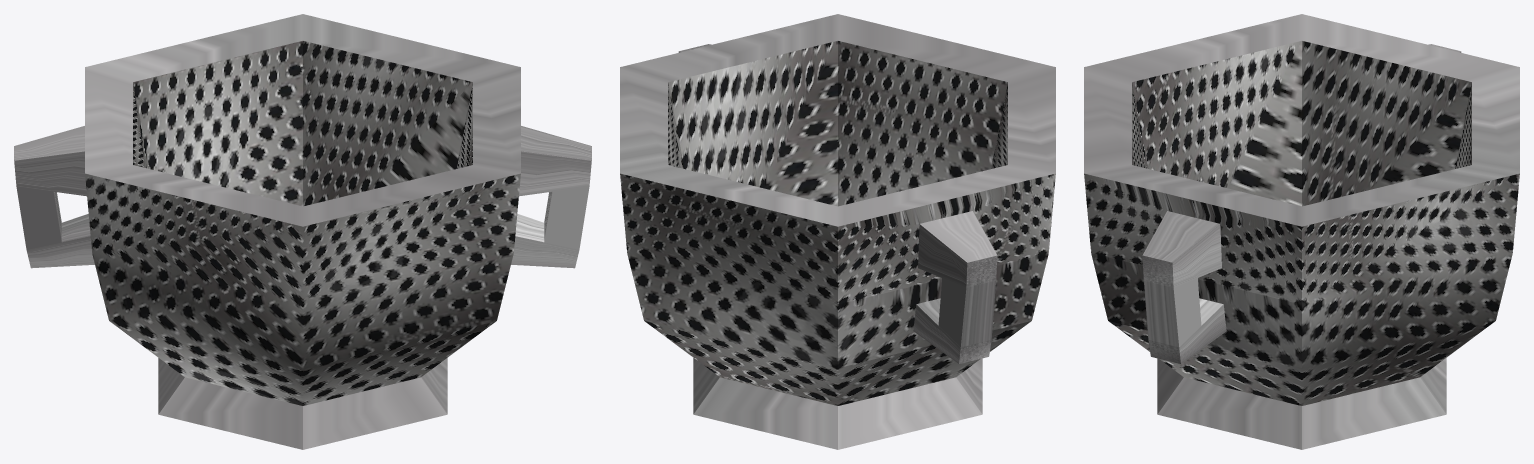
The model's file is colendar.FBX.
The picture shows the model from 3 angles, left to right: view 1: azimuth 30°, elevation 25°; view 2: azimuth 150°, elevation 25°; view 3: azimuth 270°, elevation 25°; orthographic projection.
Parts seen in each view (by area): view 1: Cylinder001, Object001; view 2: Cylinder001, Object001; view 3: Cylinder001, Object001.
Part boxes in pixels (x1,y1,x2,y2): Cylinder001: (85,41,520,405); Object001: (14,14,591,449); Cylinder001: (620,41,1055,405); Object001: (620,14,1055,449); Cylinder001: (1084,41,1519,405); Object001: (1084,14,1519,449).
Bounding box in the file's own units: 99.87 × 55.14 × 84.09.
Materials: 2 (2 with a texture image).
